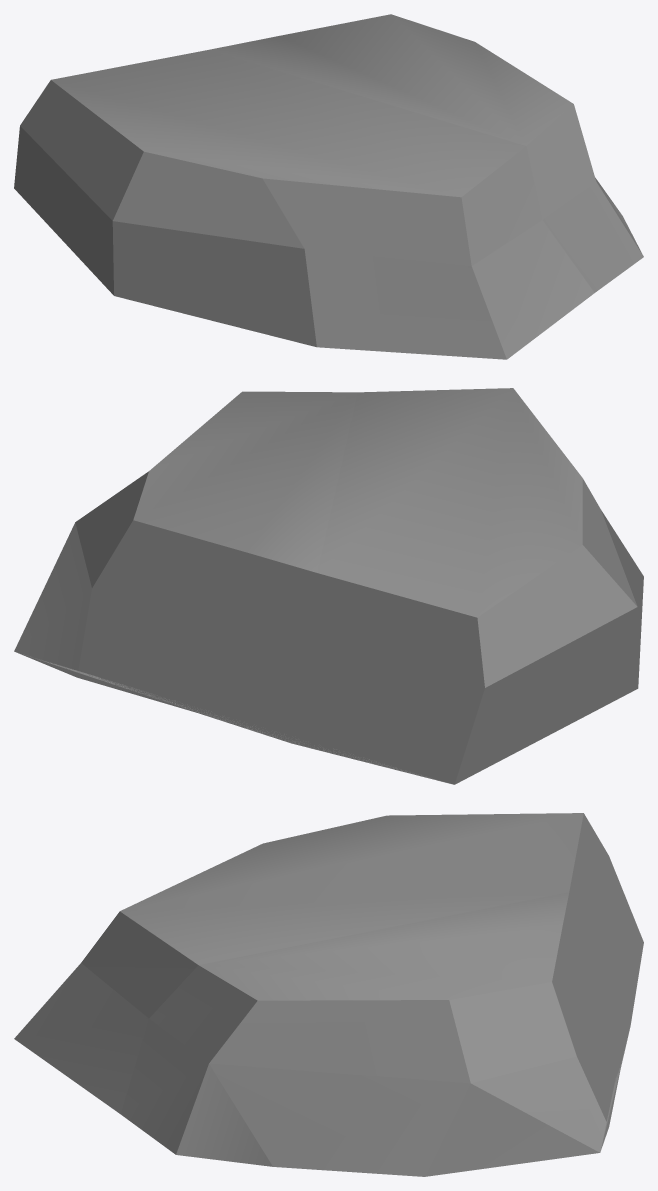
The model's file is HardRock_12.fbx.
The picture shows the model from 3 angles, top to bottom: view 1: azimuth 30°, elevation 25°; view 2: azimuth 150°, elevation 25°; view 3: azimuth 270°, elevation 25°; orthographic projection. The views are drawn at different scales.
Visible parts, largest first — view 1: HardRock_12; view 2: HardRock_12; view 3: HardRock_12.
Boxes of the visible parts, <box> form: HardRock_12: <box>14,14,643,359</box>; HardRock_12: <box>14,388,643,784</box>; HardRock_12: <box>14,813,643,1176</box>.
Bounding box in the file's own units: 164 × 42.55 × 175.
